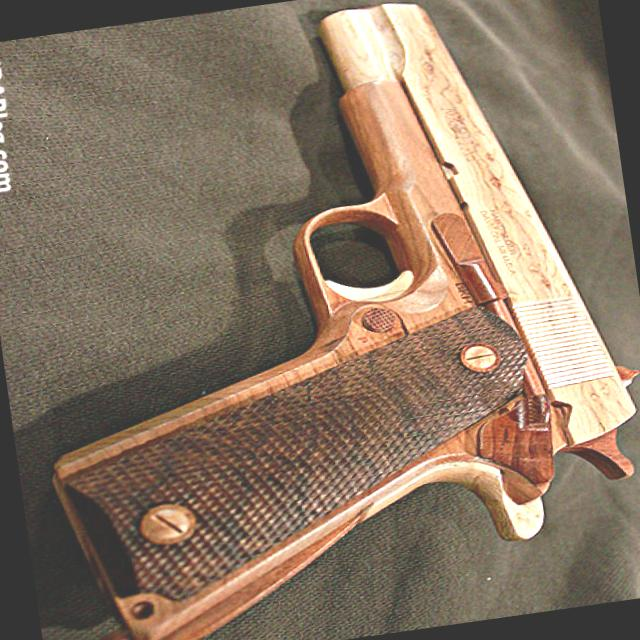handgun: (9, 0, 639, 639)
